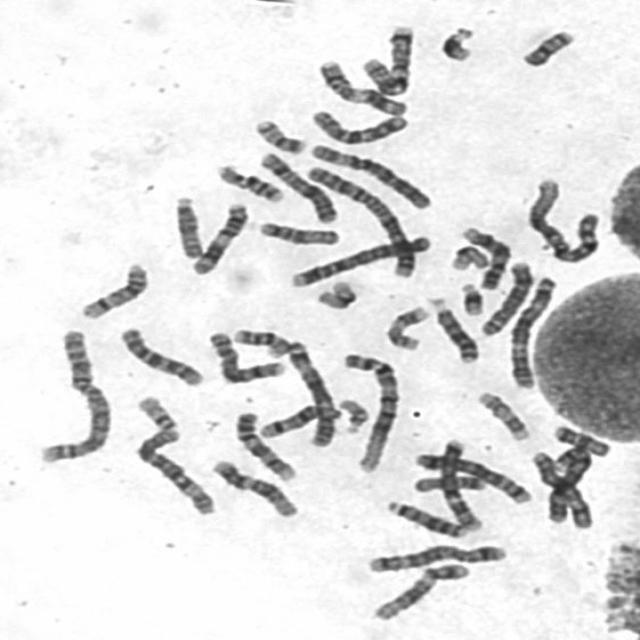A1: (335, 348, 403, 475), (519, 172, 605, 265)
A2: (301, 160, 420, 280), (32, 325, 113, 465)
A3: (503, 271, 560, 390), (280, 337, 338, 449)
B4: (283, 231, 433, 289), (542, 442, 594, 527)
B5: (407, 448, 534, 506), (362, 539, 510, 575)
C10: (113, 322, 205, 388), (304, 105, 411, 146)
C11: (312, 56, 410, 118), (185, 198, 251, 277)
C12: (365, 558, 471, 623), (206, 455, 302, 519)
C6: (304, 139, 434, 210), (128, 422, 219, 517)
C7: (432, 432, 485, 533), (356, 21, 416, 98)
C8: (202, 327, 289, 385), (474, 257, 536, 338)
C9: (228, 407, 299, 482), (455, 222, 512, 290)
D13: (422, 292, 482, 365), (380, 497, 469, 539)
D14: (74, 259, 151, 321), (254, 400, 344, 440)
D15: (252, 216, 341, 246), (168, 190, 205, 260)
E16: (210, 160, 285, 204), (226, 324, 293, 359)
E17: (471, 387, 532, 442), (379, 302, 431, 352)
E18: (546, 420, 612, 459), (406, 476, 494, 499)
F19: (310, 276, 360, 311), (444, 242, 491, 272)
F20: (516, 25, 577, 68), (247, 114, 307, 155)
G21: (435, 22, 477, 63), (454, 278, 486, 316)
G22: (131, 391, 179, 433), (333, 393, 371, 435)
X: (253, 148, 340, 225), (525, 447, 595, 531)
